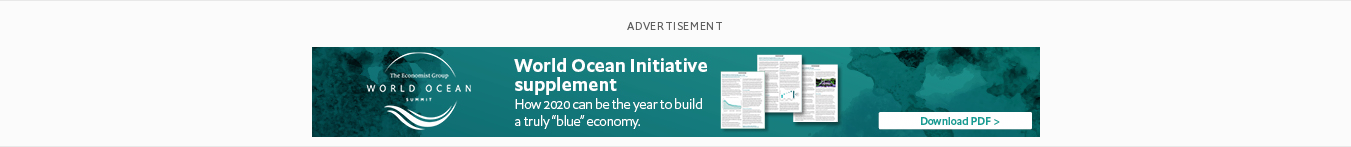fake_button: (875, 106, 1042, 140)
